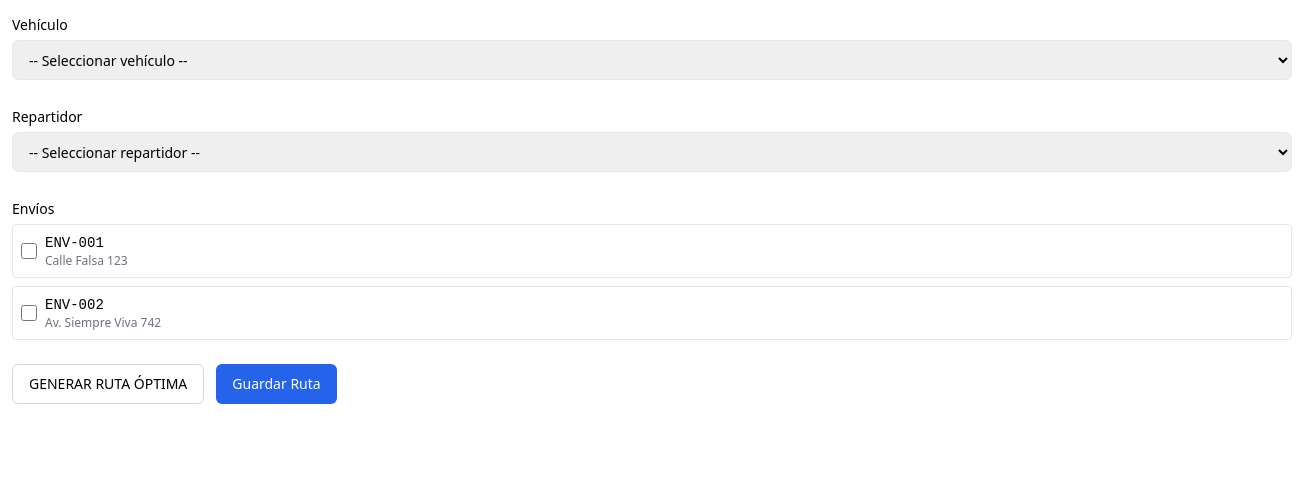
Test: R26 — RutaForm: muestra errores de validación inline al intentar guardar sin campos requeridos › muestra error de envíos, vehículo y repartidor cuando el formulario está vacío
This screenshot has width=1304, height=493.
Click the button "Guardar Ruta": [276, 384] box [216,364,337,404]
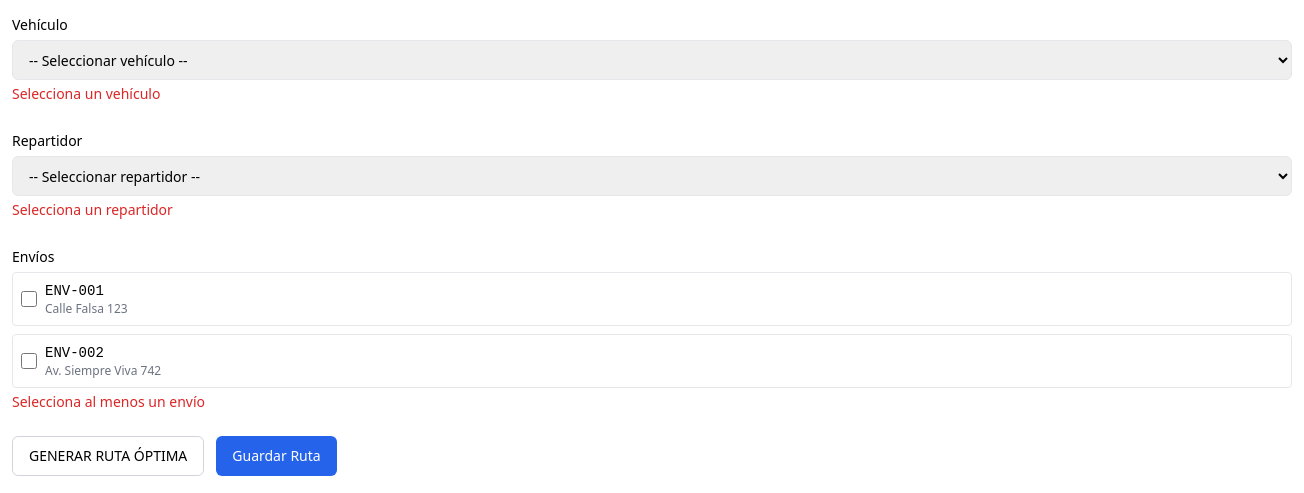
Check: the text "Selecciona al menos un envío" is shown, box [12,392,205,411]
Check: the text "Selecciona un vehículo" is shown, box [12,84,160,103]
Check: the text "Selecciona un repartidor" is shown, box [12,200,173,219]
